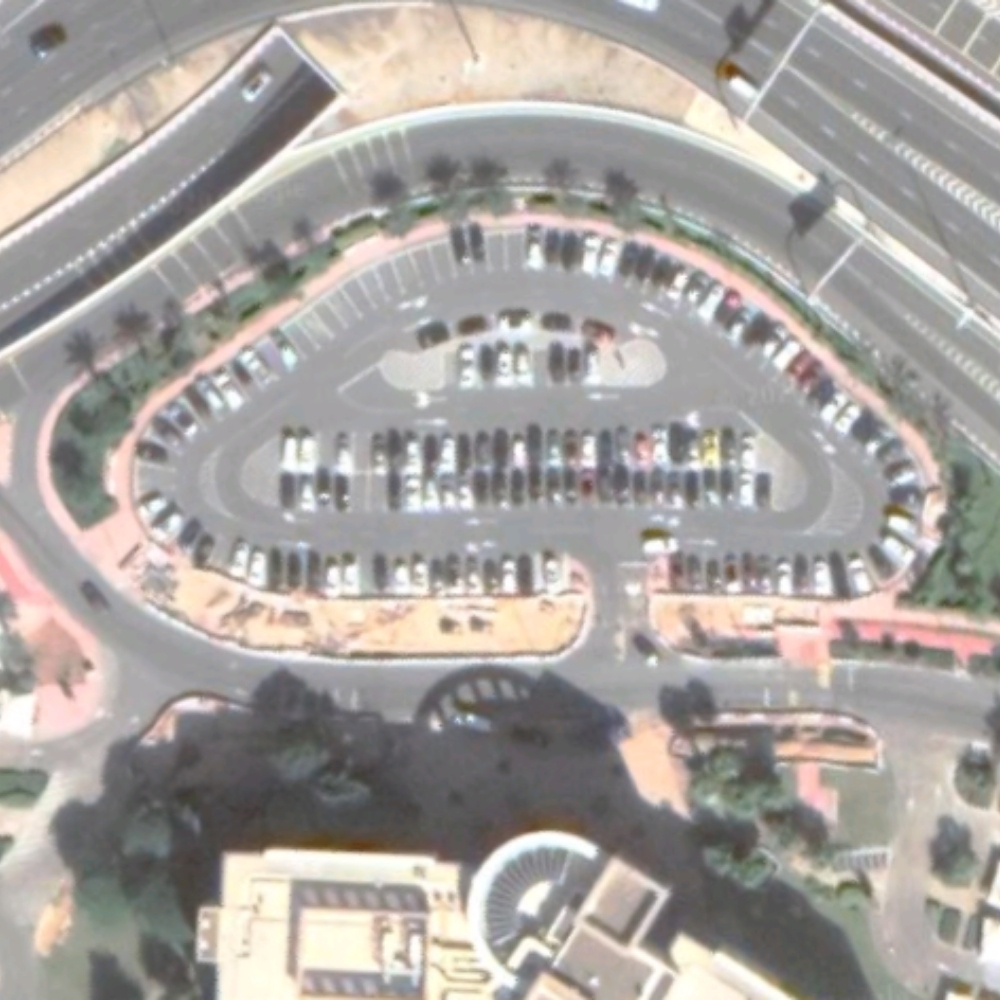parking: (135, 230, 925, 590)
